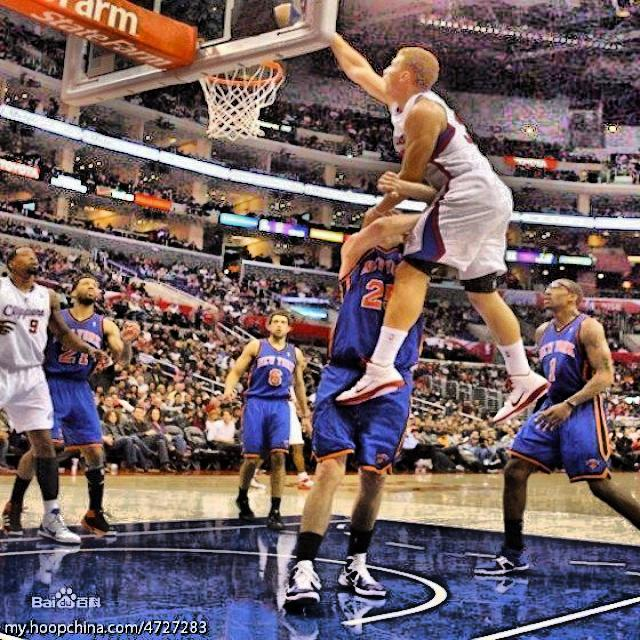rim: (195, 59, 285, 140)
